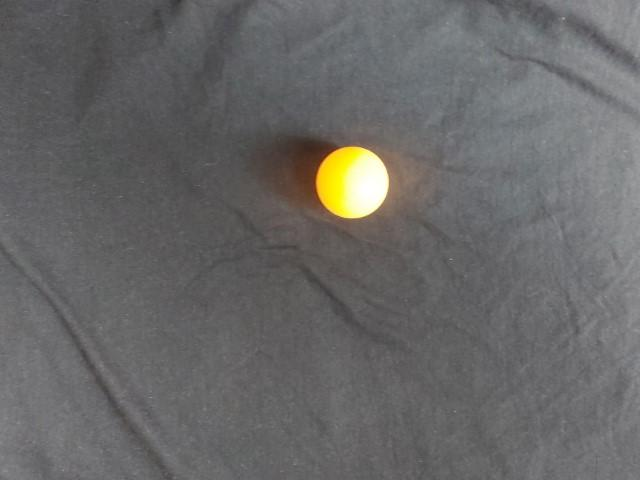oball: (246, 257, 330, 340)
